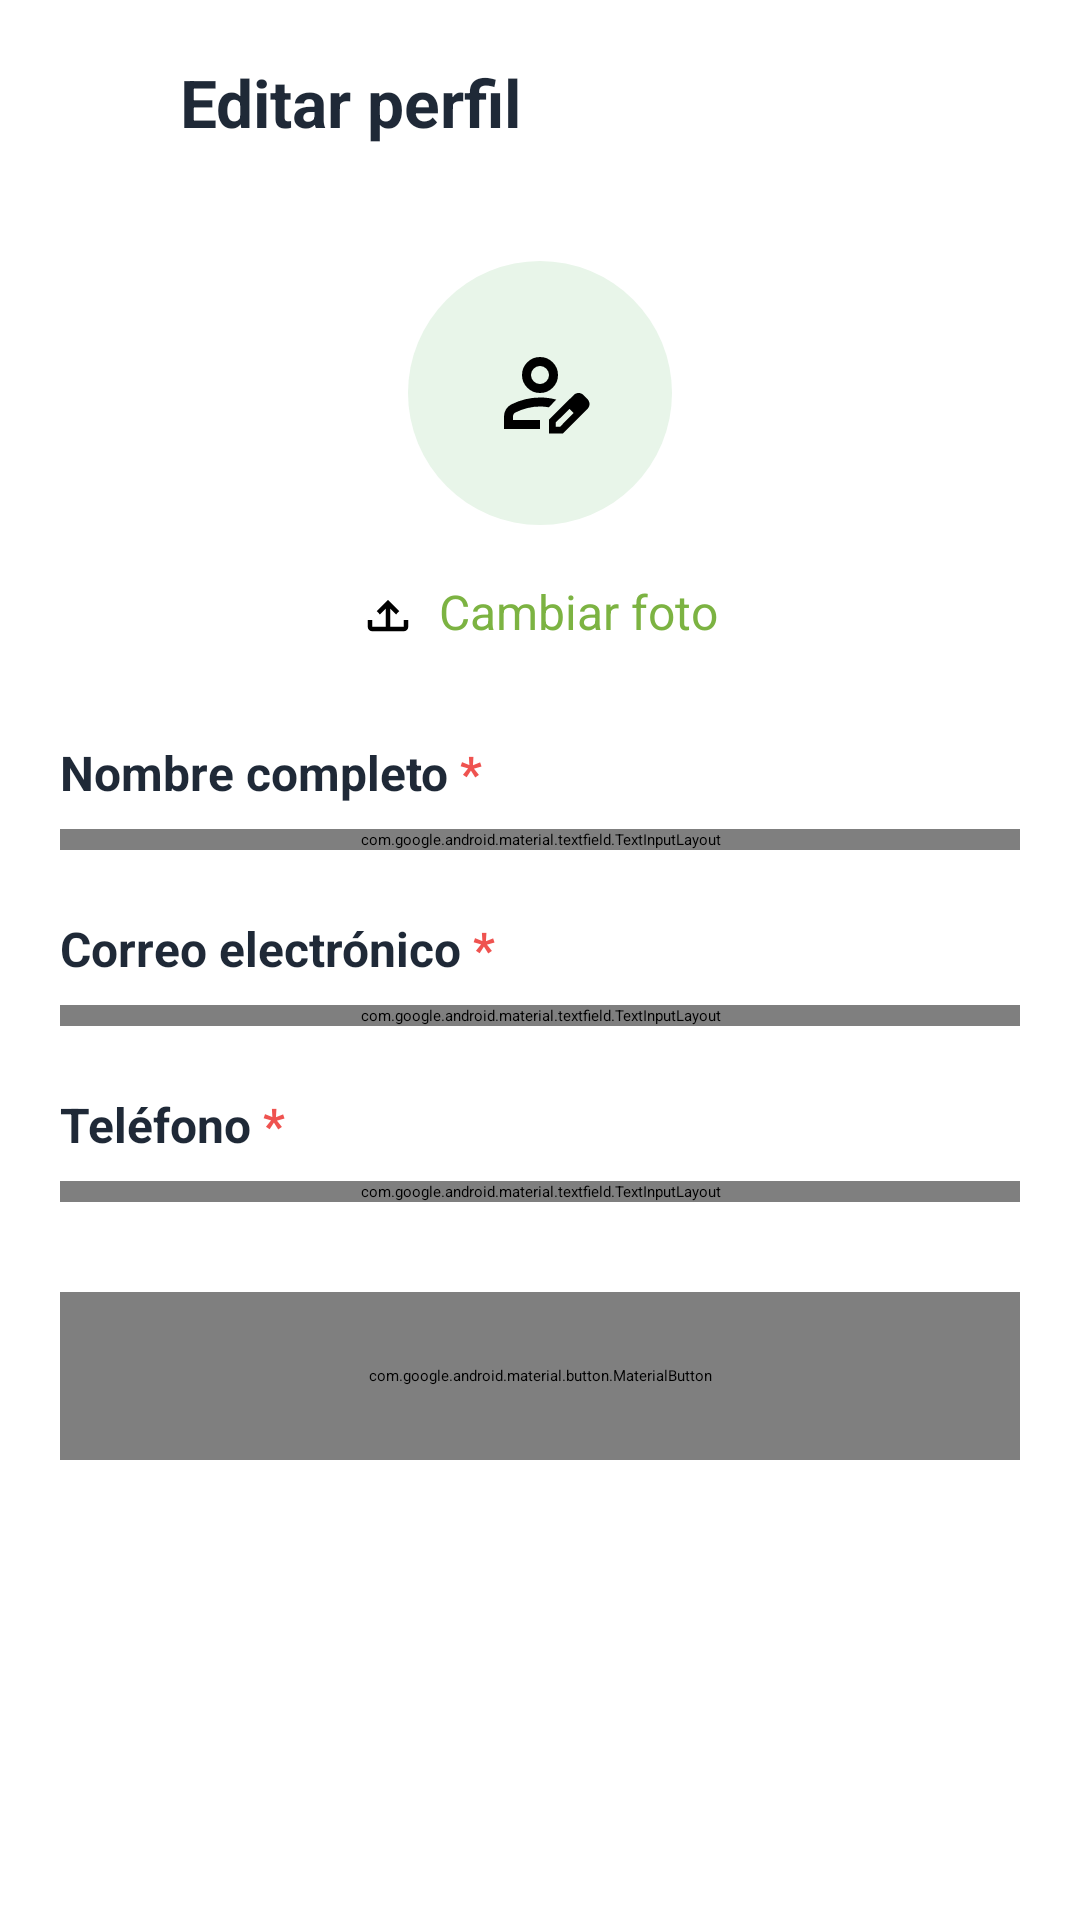

Where to tap for icons on this 1080 × 1920 app screen, as (x,y):
Avatar: (547,395)
